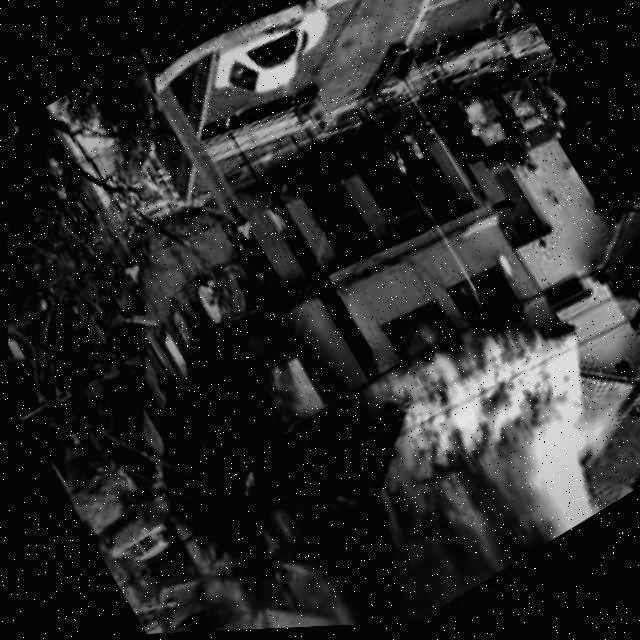Fire: (82, 178, 399, 524), (380, 299, 453, 371)
Smoke: (256, 298, 640, 631)
